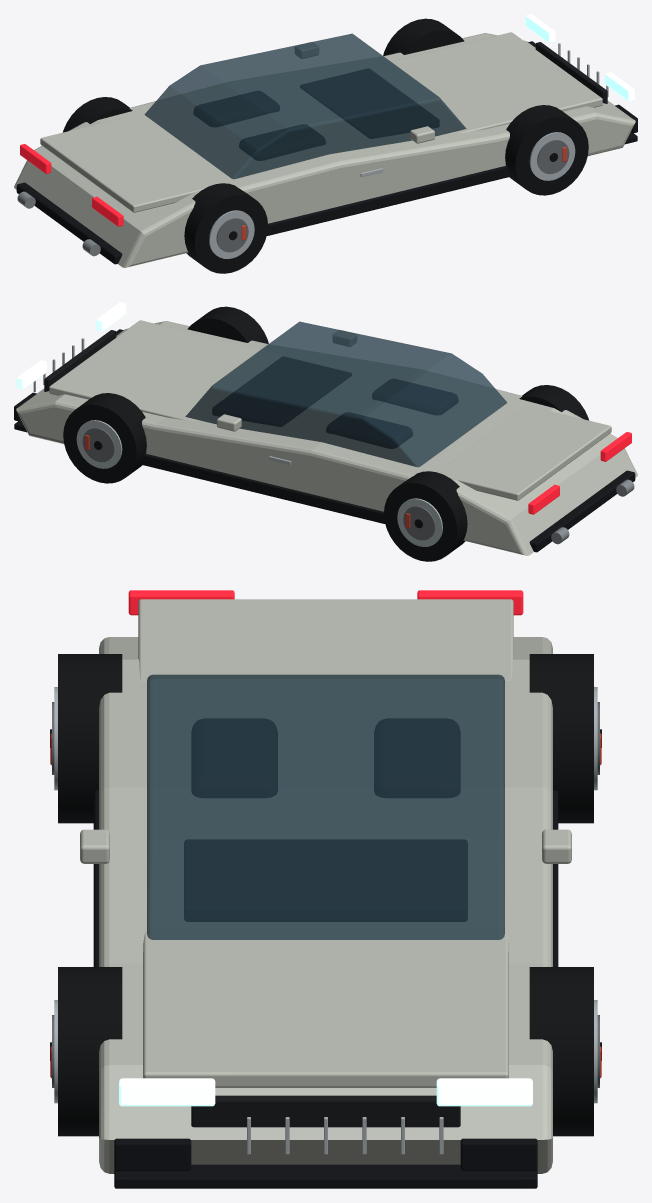
Rendered from lambo_fenomeno_roadster.glb.
3 renders of one model, top to bottom at view 1: azimuth 30°, elevation 25°; view 2: azimuth 150°, elevation 25°; view 3: azimuth 270°, elevation 25°, orthographic. The views are drawn at different scales.
Parts seen in each view (by area): view 1: sculpted_body, glasshouse, hood_center, rear_deck, dashboard, front_right_wheel_tire, rear_right_wheel_tire, side_skirt_1, seat_1, seat_-1, front_left_wheel_tire, rear_diffuser (+10 smaller); view 2: sculpted_body, glasshouse, hood_center, rear_deck, dashboard, front_left_wheel_tire, rear_left_wheel_tire, side_skirt_-1, seat_-1, seat_1, front_right_wheel_tire, rear_diffuser (+10 smaller); view 3: sculpted_body, glasshouse, hood_center, rear_deck, dashboard, front_splitter, front_left_wheel_tire, front_right_wheel_tire, front_grille, rear_left_wheel_tire, rear_right_wheel_tire, seat_-1 (+11 smaller).
Part boxes in pixels (x1,y1,x2,y2): sculpted_body: (14, 33, 635, 267); glasshouse: (144, 33, 466, 179); hood_center: (368, 32, 602, 133); rear_deck: (40, 117, 214, 212); dashboard: (300, 69, 438, 138); front_right_wheel_tire: (505, 105, 588, 195); rear_right_wheel_tire: (184, 183, 267, 273); side_skirt_1: (266, 166, 511, 235); seat_1: (239, 125, 325, 160); seat_-1: (194, 91, 279, 126); front_left_wheel_tire: (383, 18, 464, 55); rear_diffuser: (16, 182, 122, 264); sculpted_body: (16, 321, 637, 555); glasshouse: (185, 321, 507, 467); hood_center: (49, 320, 283, 421); rear_deck: (437, 405, 611, 500); dashboard: (213, 357, 351, 426); front_left_wheel_tire: (63, 393, 146, 483); rear_left_wheel_tire: (384, 471, 467, 561); side_skirt_-1: (140, 454, 385, 523); seat_-1: (326, 413, 412, 448); seat_1: (372, 379, 457, 414); front_right_wheel_tire: (187, 306, 268, 343); rear_diffuser: (529, 470, 635, 552); sculpted_body: (99, 637, 552, 1173); glasshouse: (147, 674, 504, 939); hood_center: (143, 930, 508, 1087); rear_deck: (138, 599, 513, 680); dashboard: (184, 840, 467, 921); front_splitter: (114, 1164, 537, 1188); front_left_wheel_tire: (529, 967, 593, 1136); front_right_wheel_tire: (58, 967, 122, 1136); front_grille: (191, 1095, 460, 1127); rear_left_wheel_tire: (529, 654, 593, 823); rear_right_wheel_tire: (58, 654, 122, 823); seat_-1: (374, 719, 459, 797).
Bounding box in the file's own units: 5.4 × 1.03 × 2.41.
